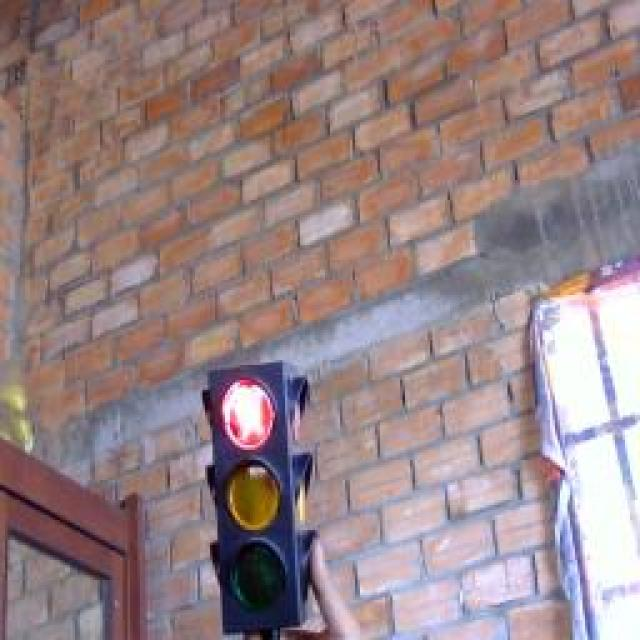-: (214, 371, 284, 456)
